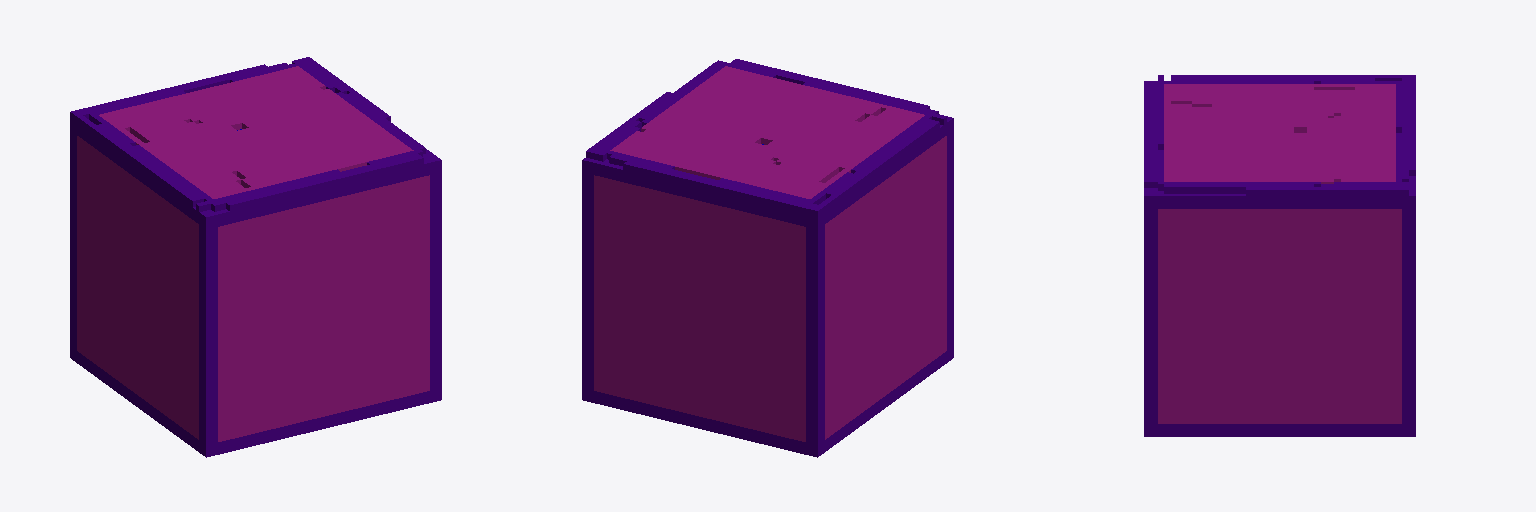
The picture shows the model from 3 angles: view 1: azimuth 30°, elevation 25°; view 2: azimuth 150°, elevation 25°; view 3: azimuth 270°, elevation 25°; orthographic projection.
Parts seen in each view (by area): view 1: object 1; view 2: object 1; view 3: object 1.
Boxes of the visible parts, x1=… form: object 1: x1=70, y1=57, x2=441, y2=457; object 1: x1=582, y1=59, x2=953, y2=457; object 1: x1=1144, y1=75, x2=1415, y2=436.
Size of the model in its own units: 4 by 4 by 4.
Materials: 1 (1 with a texture image).